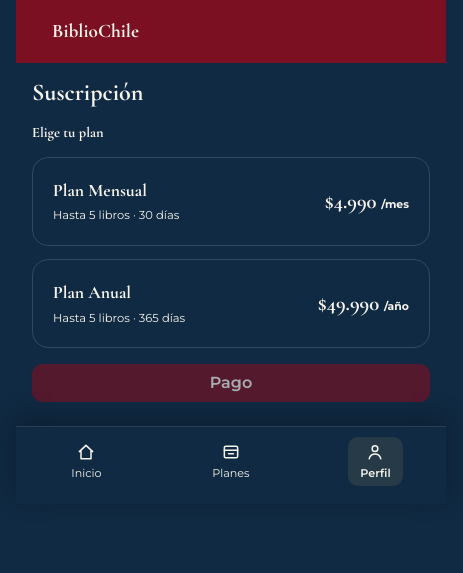
Scenario: Subscription › muestra el error del backend si ya tiene una suscripción activa (409)
This screenshot has width=463, height=573.
Click the text "Plan Mensual": (100, 190) x1=53 y1=180 x2=147 y2=201
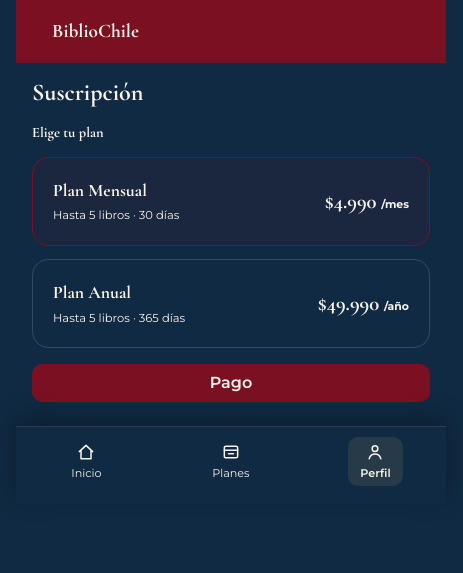
Click the button "Pago": (231, 383) x1=32 y1=364 x2=430 y2=402
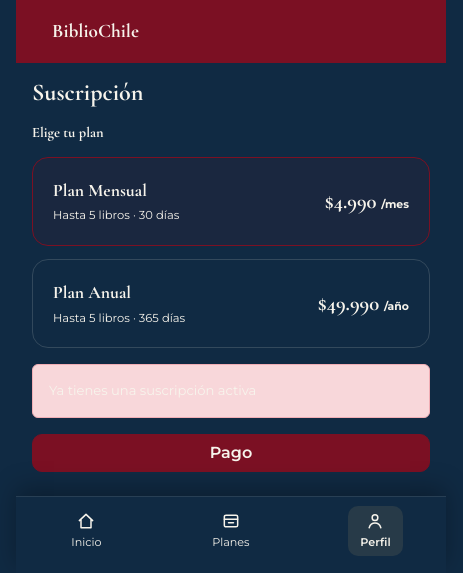
Result: the text "Ya tienes una suscripción activa" is shown at x1=32 y1=364 x2=430 y2=418
